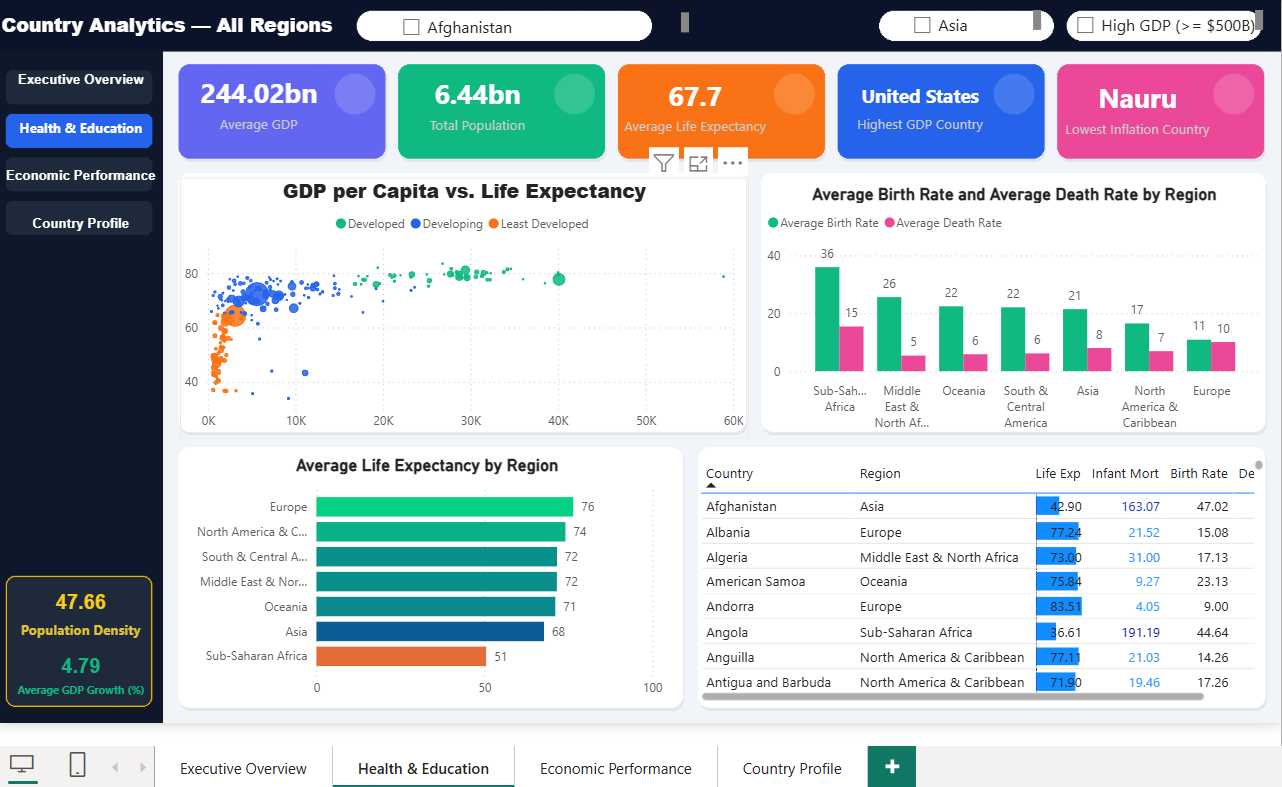

Layout of this report page (visuals, bound fields, positions):
{"tool":"powerbi","page":{"name":"Health & Education","canvas":[1280,720],"ordinal":1},"visuals":[{"type":"card","fields":{"Values":["_Measures.Dynamic Dashboard Title"]},"box":[0,0,342.5,52.5],"z":0},{"type":"slicer","fields":{"Values":["Countries.Country"]},"box":[393.3,7.2,302.8,41],"z":1000},{"type":"slicer","fields":{"Values":["Countries.Region"]},"box":[902.5,5,144.2,41.7],"z":2000},{"type":"slicer","fields":{"Values":["Countries.GDP Category"]},"box":[1063.3,5.6,203.3,41.1],"z":3000},{"type":"card","fields":{"Values":["_Measures.Average GDP"]},"box":[171.1,27.8,182.2,150],"z":4000},{"type":"card","fields":{"Values":["_Measures.Total Population"]},"box":[390,28.9,182.2,150],"z":5000},{"type":"card","fields":{"Values":["_Measures.Average Life Expectancy"]},"box":[605.6,30,182.2,150],"z":6000},{"type":"card","fields":{"Values":["_Measures.Highest GDP Country"]},"box":[830,31.1,182.2,150],"z":7000},{"type":"card","fields":{"Values":["_Measures.Lowest Inflation Country"]},"box":[1046.7,32.2,182.2,150],"z":8000},{"type":"scatterChart","title":"GDP per Capita vs. Life Expectancy","fields":{"Category":["Countries.Country"],"X":["Sum(Countries.GDP_Per_Capita)"],"Y":["Sum(Countries.Life_Expectancy_Years)"],"Series":["Countries.Development Level"],"Size":["Sum(Countries.Population)"]},"box":[184.6,176.1,565.8,260.6],"z":9000},{"type":"clusteredColumnChart","fields":{"Category":["Countries.Region"],"Y":["_Measures.Average Birth Rate","_Measures.Average Death Rate"]},"box":[764.1,182.7,501.7,253.7],"z":10000},{"type":"clusteredBarChart","fields":{"Category":["Countries.Region"],"Y":["_Measures.Average Life Expectancy"]},"box":[184.6,452.4,492.2,249.7],"z":11000},{"type":"tableEx","fields":{"Values":["Countries.Country","Countries.Region","Sum(Countries.Life_Expectancy_Years)","Sum(Countries.Infant_Mortality_Per_1000)","Sum(Countries.Birth_Rate_Per_1000)","Sum(Countries.Death_Rate_Per_1000)"]},"box":[696.1,452.4,570.6,249.7],"z":12000},{"type":"pageNavigator","box":[0,67.1,171.4,168.6],"z":13000},{"type":"card","fields":{"Values":["_Measures.Population Density"]},"box":[0,577.1,171.4,64.3],"z":13001},{"type":"card","fields":{"Values":["_Measures.Average GDP Growth (%)"]},"box":[0,638.6,171.4,64.3],"z":13002}]}

Visuals, with their boxes on the page's 1280x720 design canvas (x1, y1, x2, y2). These are canvas units, not pixel positions in the 1282x787 screenshot, which may show the page scaled, cropped or inside an application window:
card - _Measures.Dynamic Dashboard Title: <box>0,0,342,52</box>
slicer - Countries.Country: <box>393,7,696,48</box>
slicer - Countries.Region: <box>902,5,1047,47</box>
slicer - Countries.GDP Category: <box>1063,6,1267,47</box>
card - _Measures.Average GDP: <box>171,28,353,178</box>
card - _Measures.Total Population: <box>390,29,572,179</box>
card - _Measures.Average Life Expectancy: <box>606,30,788,180</box>
card - _Measures.Highest GDP Country: <box>830,31,1012,181</box>
card - _Measures.Lowest Inflation Country: <box>1047,32,1229,182</box>
"GDP per Capita vs. Life Expectancy" scatterChart: <box>185,176,750,437</box>
clusteredColumnChart - Countries.Region x _Measures.Average Birth Rate: <box>764,183,1266,436</box>
clusteredBarChart - Countries.Region x _Measures.Average Life Expectancy: <box>185,452,677,702</box>
tableEx - Countries.Country x Countries.Region: <box>696,452,1267,702</box>
pageNavigator: <box>0,67,171,236</box>
card - _Measures.Population Density: <box>0,577,171,641</box>
card - _Measures.Average GDP Growth (%): <box>0,639,171,703</box>
